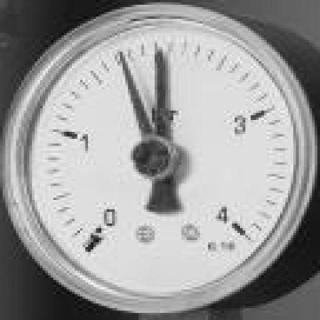gauge: (0, 1, 320, 317), (76, 204, 123, 266), (128, 137, 178, 182), (218, 206, 250, 242), (149, 46, 169, 73), (113, 48, 130, 68)
